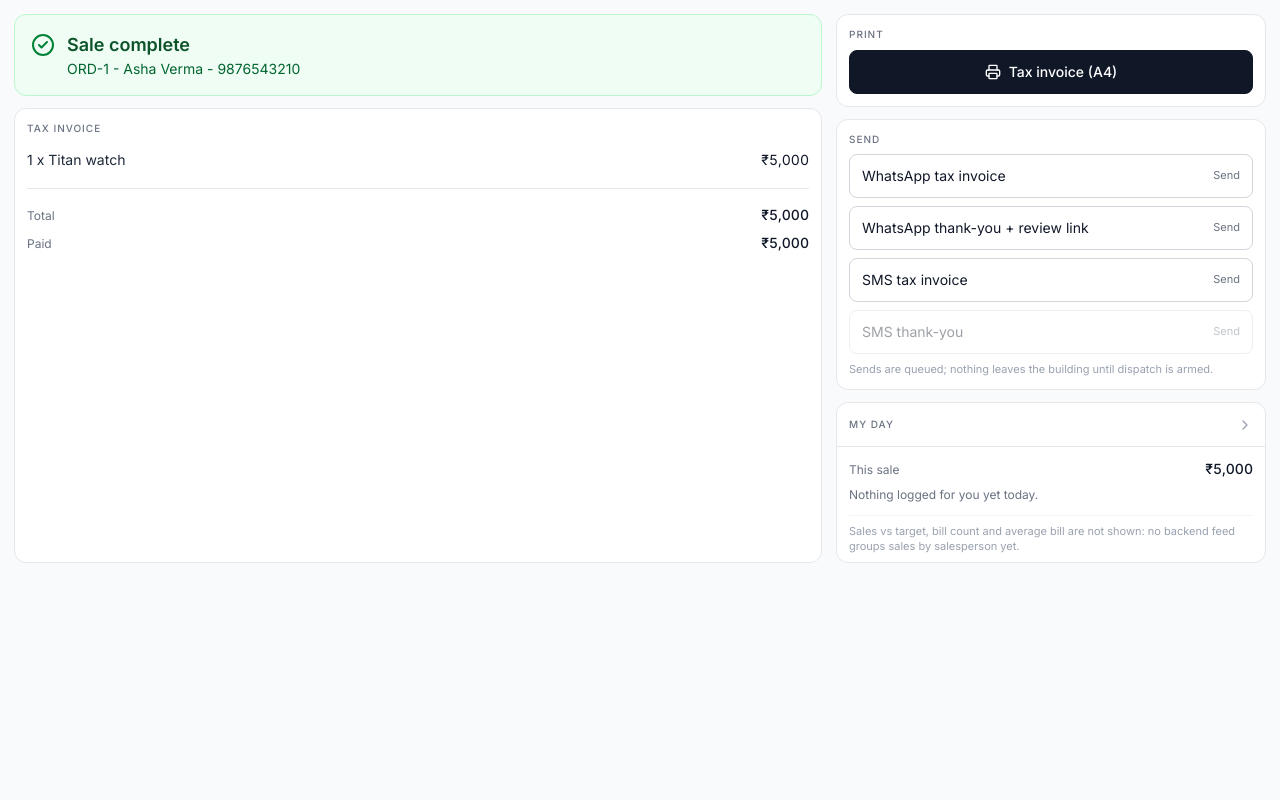
Test case: the general counter completion screen › the invoice button is disabled while it loads, so a double tap asks once
The width and height of the screenshot is (1280, 800).
expect the text "ORD-1 - Asha Verma - 9876543210" is shown: met, box [67,59,300,79]
Click the button "Tax invoice (A4)".
click(1051, 72)  # box [849,50,1253,94]
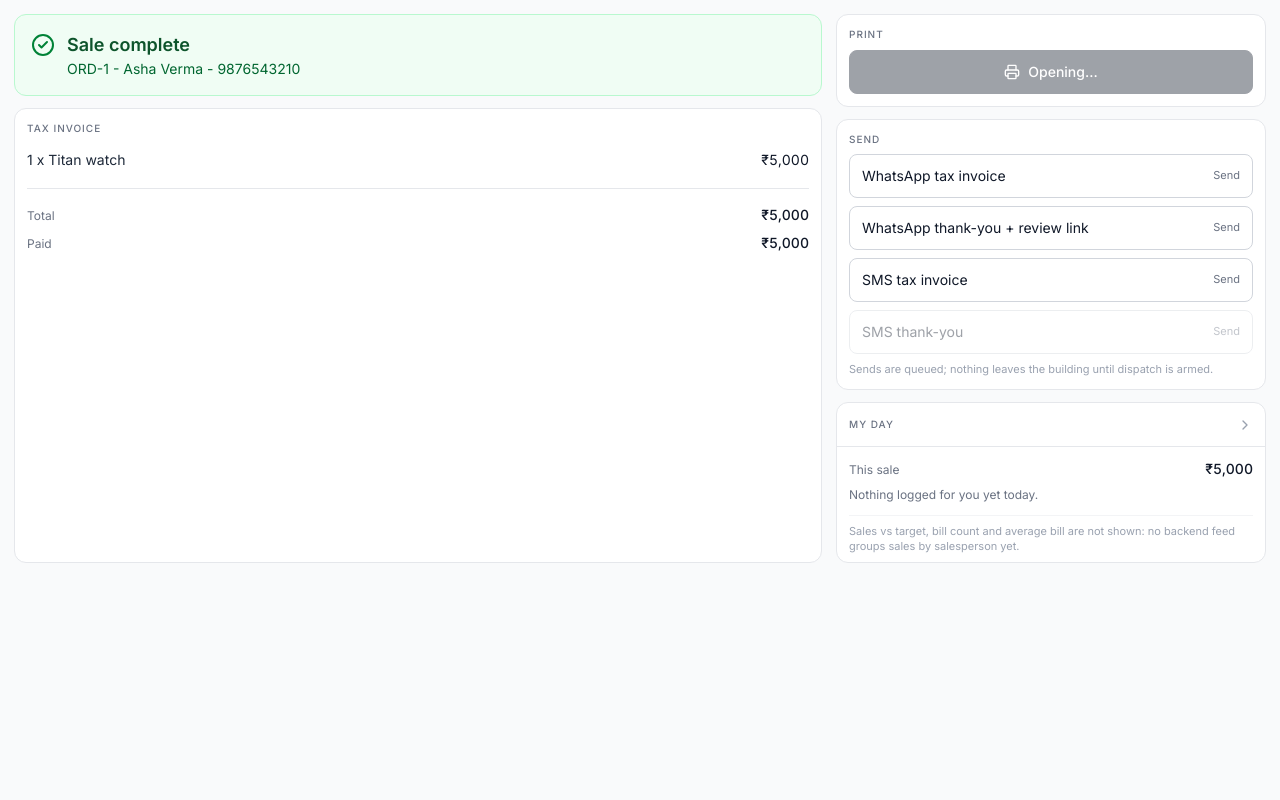
expect the button "Opening..." is disabled: met
Click the button "Opening...".
click(1051, 72)  # box [849,50,1253,94]
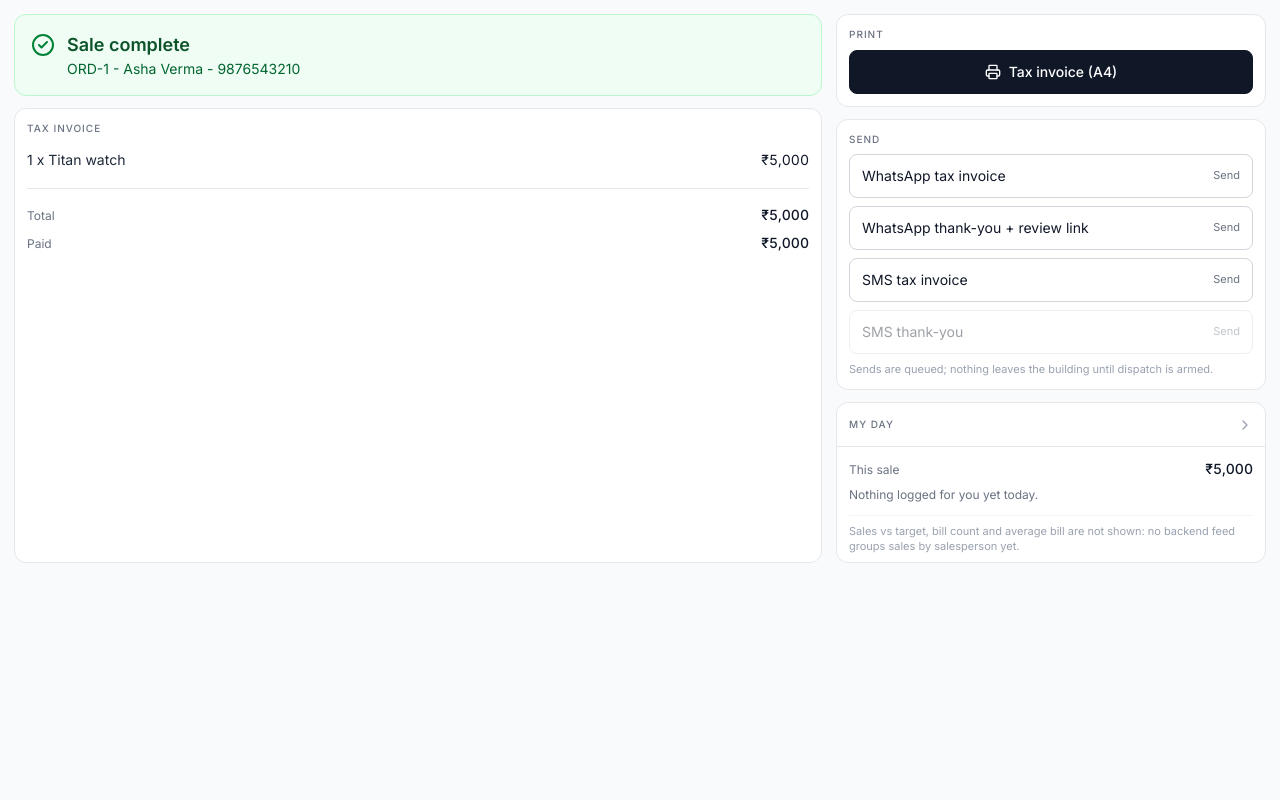
expect the button "Tax invoice (A4)" is enabled: met, box [849,50,1253,94]
